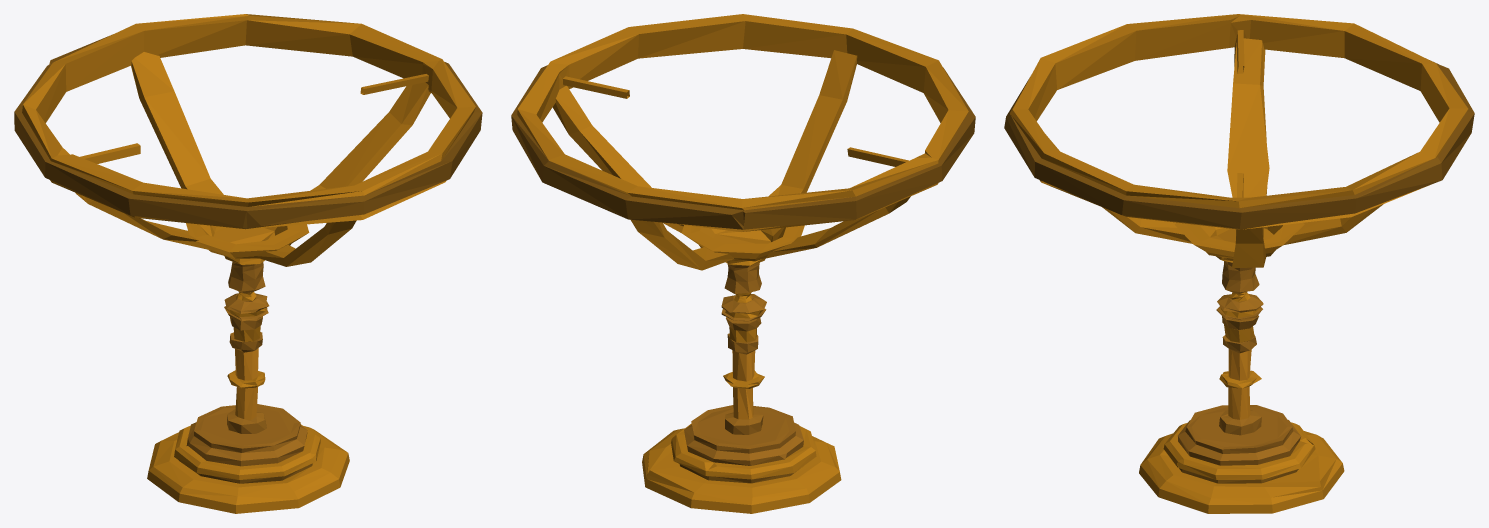
Rendered from AWS_Globe_Stand.fbx.
3 renders of one model, left to right at view 1: azimuth 30°, elevation 25°; view 2: azimuth 150°, elevation 25°; view 3: azimuth 270°, elevation 25°, orthographic.
Parts seen in each view (by area): view 1: AWS_Globe_Stand; view 2: AWS_Globe_Stand; view 3: AWS_Globe_Stand.
Boxes of the visible parts, x1,y1,x2,y2 form: AWS_Globe_Stand: (14, 14, 482, 513); AWS_Globe_Stand: (511, 14, 975, 513); AWS_Globe_Stand: (1004, 14, 1474, 513).
Bounding box in the file's own units: 53.76 × 46.53 × 54.04.
